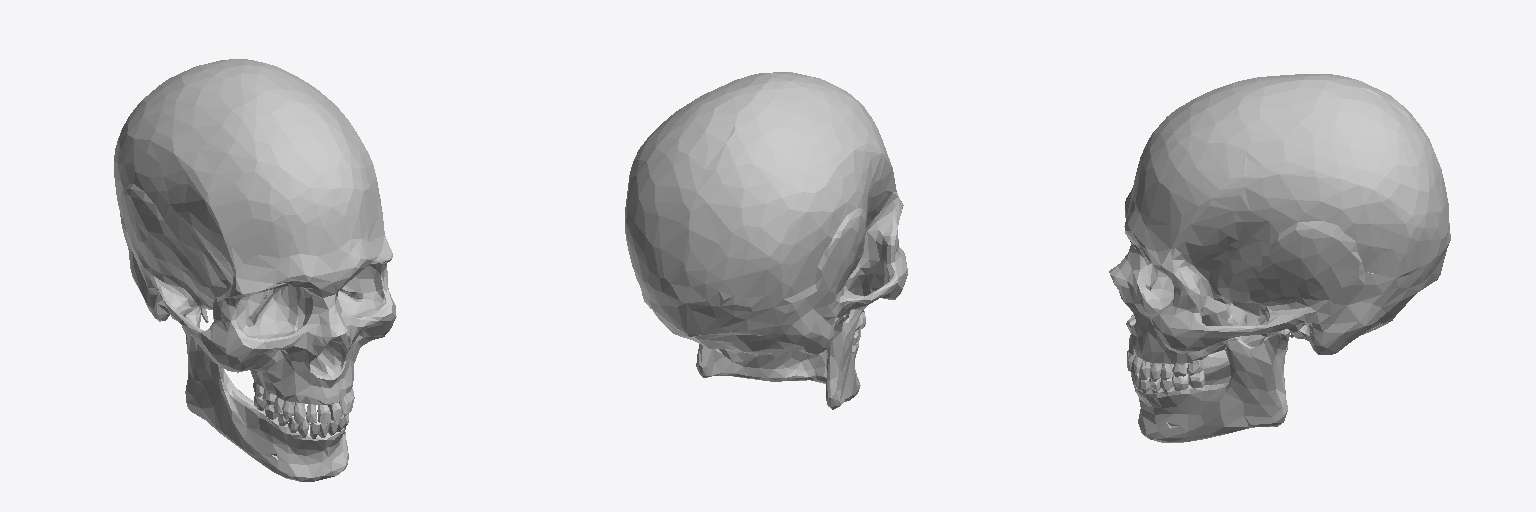
File: Skull_subdiv2.obj
3 renders of one model, left to right at view 1: azimuth 30°, elevation 25°; view 2: azimuth 150°, elevation 25°; view 3: azimuth 270°, elevation 25°, orthographic.
Visible parts, largest first — view 1: Skull_subdiv1; view 2: Skull_subdiv1; view 3: Skull_subdiv1.
Boxes of the visible parts, box(x1,y1,x2,y2) form: Skull_subdiv1: box(114, 59, 396, 481); Skull_subdiv1: box(625, 72, 907, 409); Skull_subdiv1: box(1109, 74, 1450, 442).
Bounding box in the file's own units: 1.3 × 2.08 × 1.84.